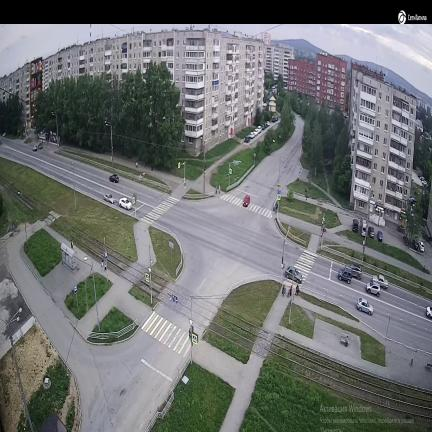bench: (341, 334, 349, 346), (426, 363, 431, 370)
busStop: (61, 243, 78, 272)
busStopSign: (74, 286, 78, 311), (105, 251, 107, 273)
car: (285, 266, 302, 283), (357, 298, 373, 315), (345, 264, 362, 279), (366, 282, 381, 297), (372, 275, 388, 288), (338, 269, 352, 283), (119, 198, 132, 209), (104, 194, 115, 203), (243, 195, 250, 207), (110, 174, 119, 183), (368, 226, 374, 238), (353, 219, 358, 232), (377, 231, 382, 241)
cyclist: (282, 286, 285, 296)
garbageBin: (410, 359, 413, 366)
human: (295, 284, 299, 295), (345, 336, 348, 347), (101, 259, 103, 271), (290, 285, 292, 296), (215, 188, 218, 194), (219, 185, 220, 193), (152, 163, 153, 170), (136, 162, 137, 168)
lightPole: (90, 258, 100, 331), (362, 206, 369, 260), (106, 121, 113, 167), (72, 162, 76, 210), (204, 147, 205, 193)
pedestianCross: (142, 311, 190, 356), (143, 197, 178, 223), (295, 250, 317, 284), (248, 199, 273, 218)
pedestrianSign: (145, 266, 152, 304)
sign: (169, 242, 173, 265), (152, 283, 157, 292), (176, 367, 180, 372)
trafficLight: (189, 298, 198, 362), (281, 228, 290, 282), (133, 173, 143, 218), (227, 160, 241, 190), (178, 162, 186, 187), (276, 184, 281, 218), (321, 214, 326, 246)
truck: (361, 218, 367, 236)
